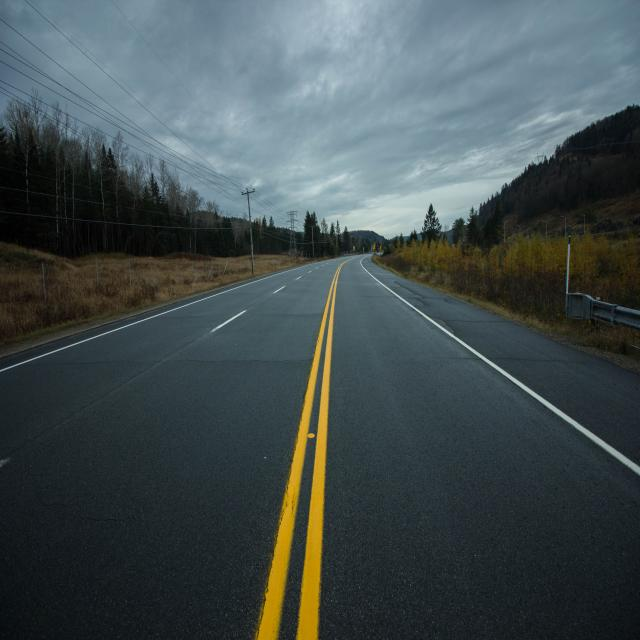Clean road: (4, 246, 639, 640)
